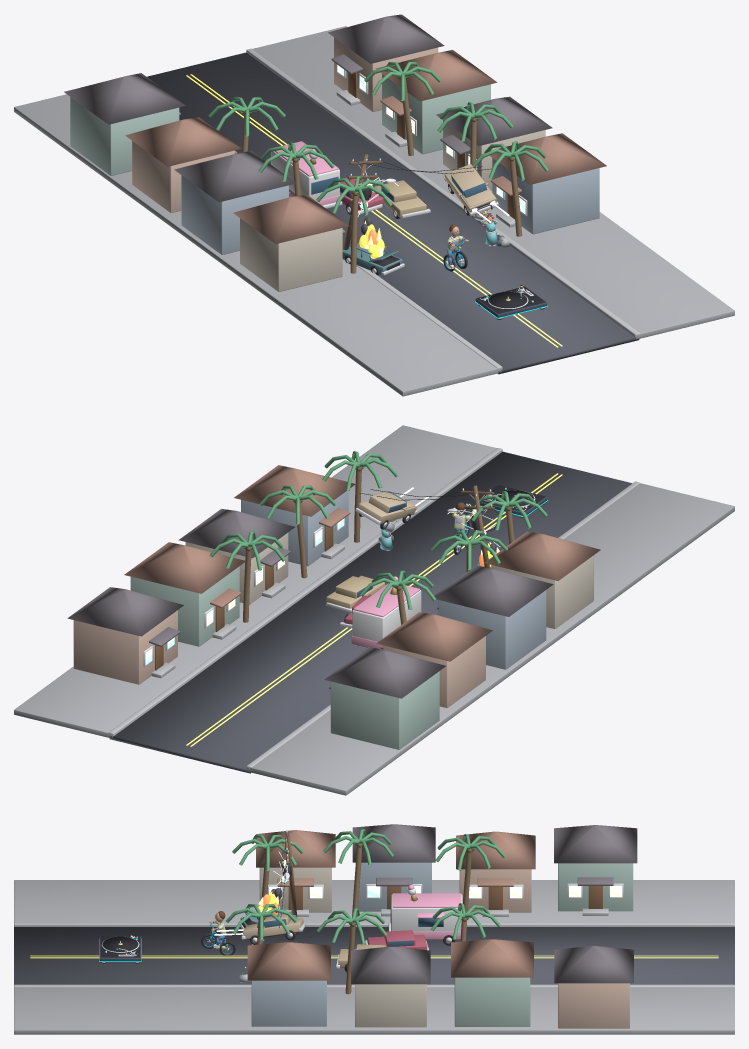
Rendered from yhlqmdlg-world.glb.
The picture shows the model from 3 angles, top to bottom: view 1: azimuth 30°, elevation 25°; view 2: azimuth 150°, elevation 25°; view 3: azimuth 270°, elevation 25°; orthographic projection. The views are drawn at different scales.
Parts seen in each view (by area): view 1: StreetEnvironment, FlyingCar, BurningCar, SparkingPole, TurntableBase, BoyOnBike; view 2: StreetEnvironment, FlyingCar, SparkingPole; view 3: StreetEnvironment, FlyingCar, SparkingPole, TurntableBase, BoyOnBike, BurningCar, TurntablePlatter.
Part boxes in pixels (bbox=[...]): StreetEnvironment: bbox=[14, 14, 734, 396]; FlyingCar: bbox=[443, 164, 509, 223]; BurningCar: bbox=[342, 217, 404, 275]; SparkingPole: bbox=[342, 154, 491, 249]; TurntableBase: bbox=[475, 286, 547, 319]; BoyOnBike: bbox=[443, 224, 469, 271]; StreetEnvironment: bbox=[14, 425, 734, 795]; FlyingCar: bbox=[355, 487, 428, 529]; SparkingPole: bbox=[359, 485, 500, 567]; StreetEnvironment: bbox=[14, 824, 734, 1034]; FlyingCar: bbox=[214, 914, 306, 944]; SparkingPole: bbox=[273, 830, 297, 927]; TurntableBase: bbox=[99, 935, 141, 963]; BoyOnBike: bbox=[201, 911, 235, 955]; BurningCar: bbox=[238, 888, 297, 929]; TurntablePlatter: bbox=[101, 936, 139, 952].
Size of the model in its own units: 21.96 by 6.72 by 44.
